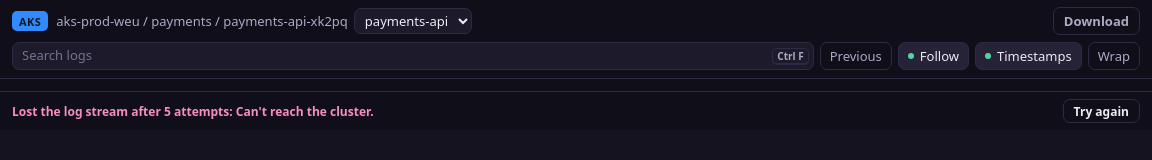
Test: LogPane › an error offers Try again, which reopens the stream
Expected: the message shows "Lost the log stream after 5 attempts: Can't reach the cluster.", [12,102,374,120]
Click the button "Try again" at (1101, 111), box [1063,99,1140,123]
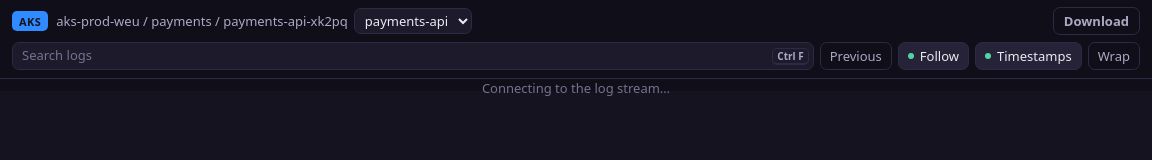
Result: the message "Lost the log stream after 5 attempts: Can't reach the cluster. Try again" is gone
